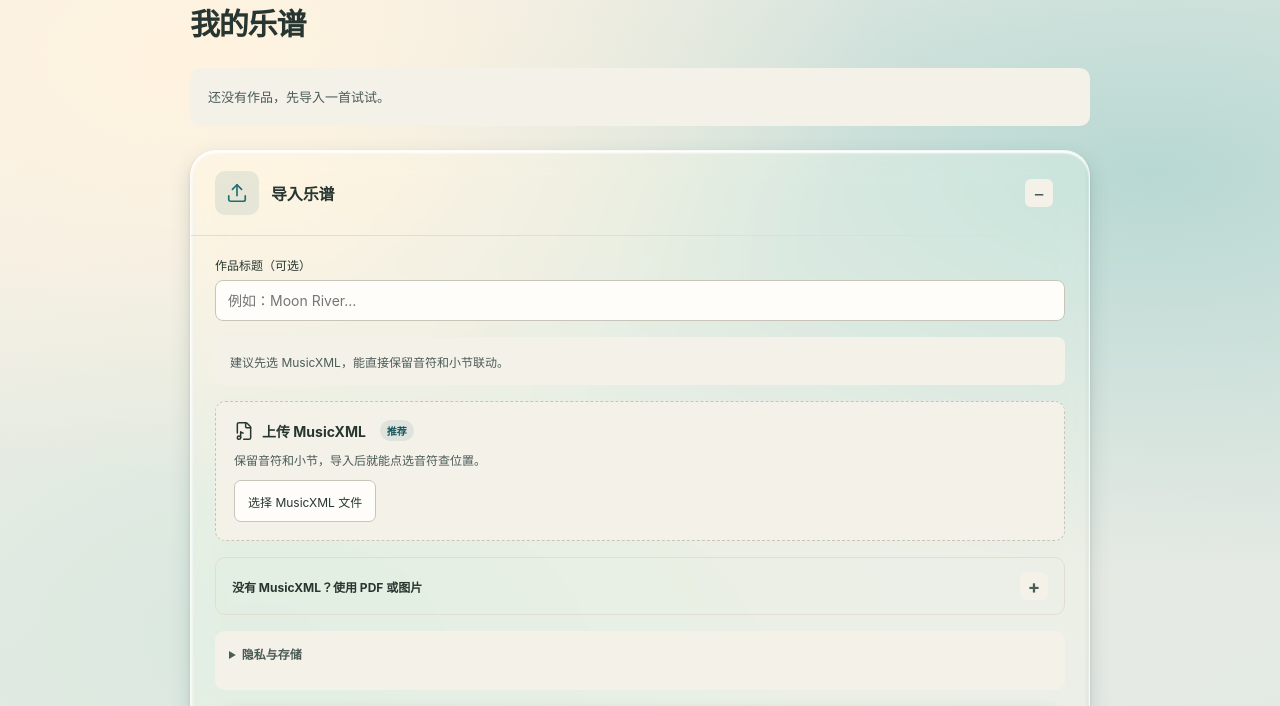
Test case: ImportForm › keeps privacy and storage information in one optional disclosure
The image size is (1280, 706).
Click the heading "隐私与存储" at (272, 655), box [242, 647, 302, 662]
(page scrolled)
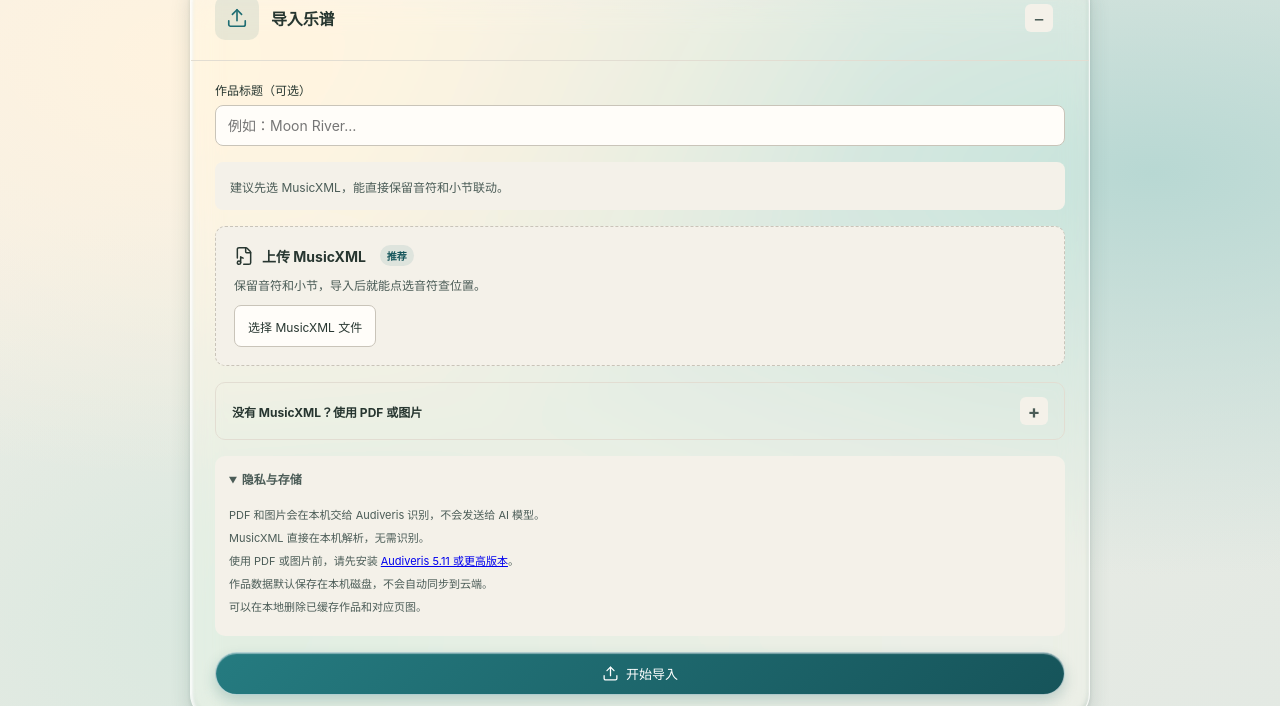
Expected: the text "PDF 和图片会在本机交给 Audiveris 识别，不会发送给 AI 模型。" is shown, [229, 508, 545, 522]
Expected: the text "作品数据默认保存在本机磁盘，不会自动同步到云端。" is shown, [229, 577, 493, 591]
Expected: the text "可以在本地删除已缓存作品和对应页图。" is shown, [229, 600, 427, 614]
